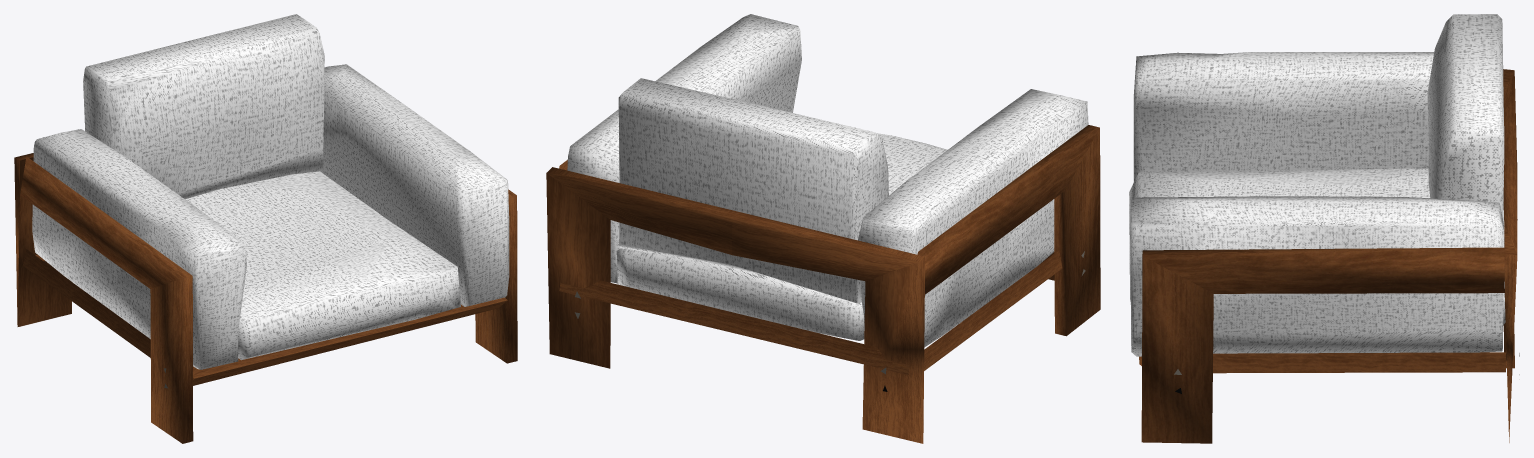
The model's file is conference chair.gltf.
3 views of the same model, side by side, from view 1: azimuth 30°, elevation 25°; view 2: azimuth 150°, elevation 25°; view 3: azimuth 270°, elevation 25° (orthographic). The views are drawn at different scales.
Visible parts, largest first — view 1: conference chair; view 2: conference chair; view 3: conference chair.
Boxes of the visible parts, bbox=[...] form: conference chair: bbox=[14, 14, 517, 443]; conference chair: bbox=[546, 14, 1100, 443]; conference chair: bbox=[1129, 14, 1519, 443].
Bounding box in the file's own units: 0.9659 × 0.6776 × 0.8548.
Materials: 5 (3 with a texture image).
